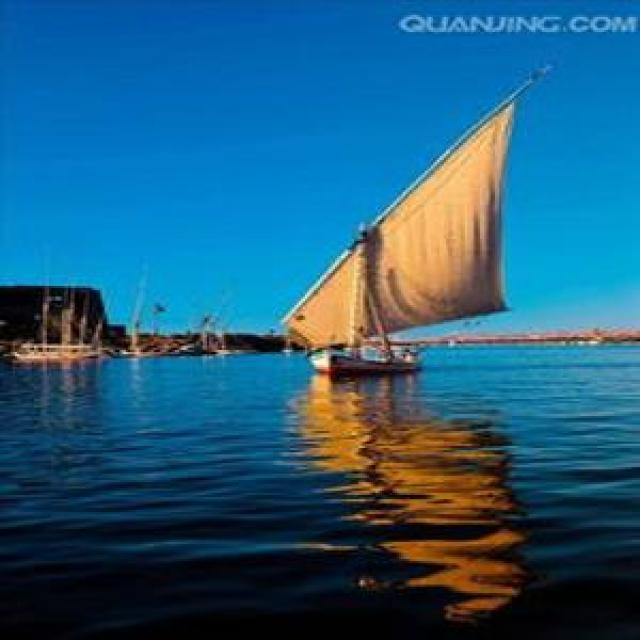sailboat: (246, 59, 532, 378)
